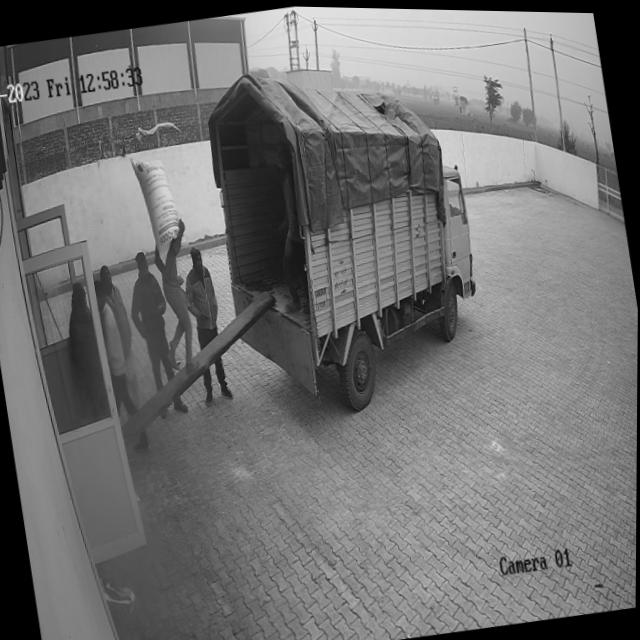sack: (129, 151, 187, 265)
